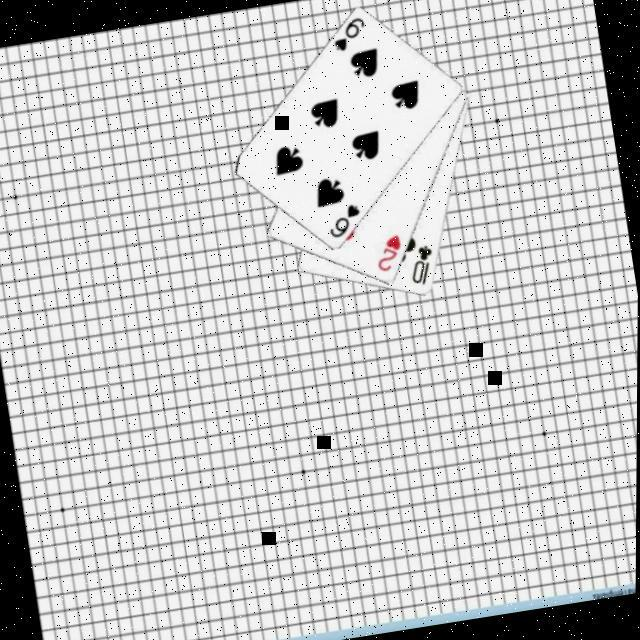10C: (405, 242, 442, 290)
2H: (371, 232, 409, 276)
6S: (328, 14, 373, 56), (324, 201, 367, 243)
